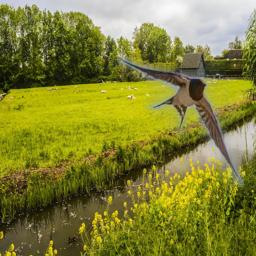Swallow: (117, 57, 244, 187)
